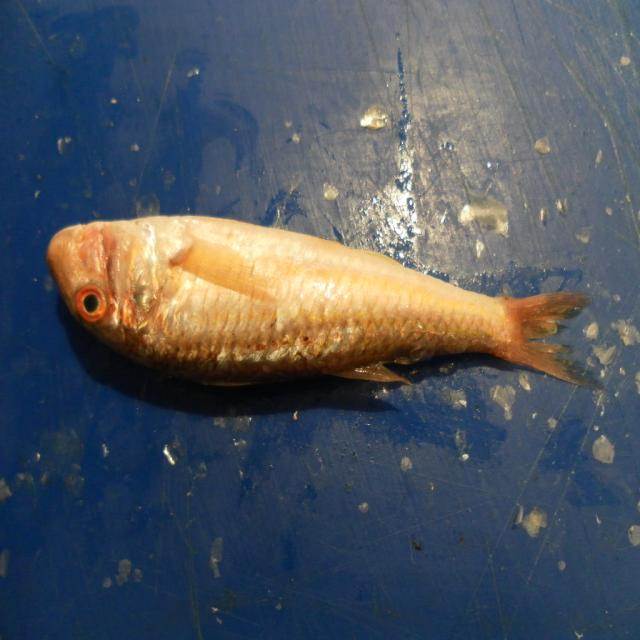Striped-Red-Mullet-tekir-: (45, 215, 589, 392)
